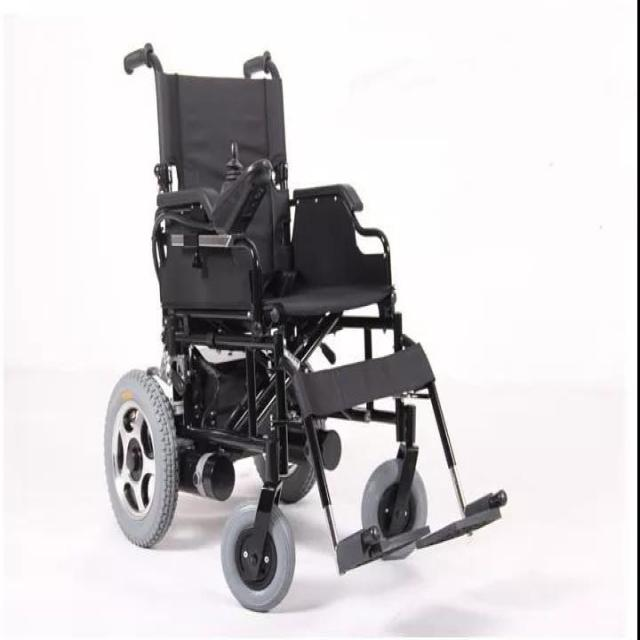wheelchairs: (80, 28, 514, 621)
